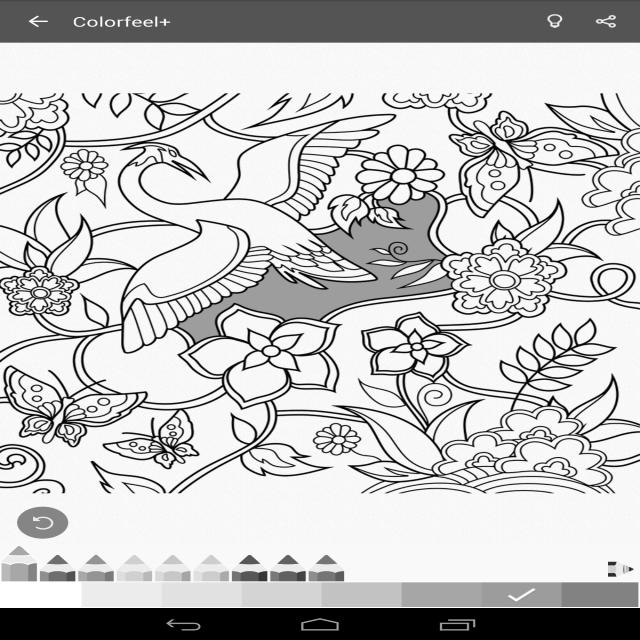ImageButton: (9, 3, 68, 40)
ImageView: (2, 582, 82, 607), (82, 582, 162, 607), (162, 582, 242, 607), (242, 582, 322, 607), (322, 582, 402, 607), (402, 582, 482, 607), (482, 582, 562, 607), (561, 582, 640, 606), (17, 506, 68, 538), (601, 557, 640, 581)
RadioButton: (0, 544, 38, 581), (38, 545, 77, 581), (115, 545, 154, 581), (230, 545, 269, 581), (307, 545, 346, 581), (77, 545, 115, 581), (154, 545, 192, 581), (192, 545, 230, 581), (269, 545, 307, 581)
TextView: (73, 12, 171, 30), (580, 5, 632, 38), (529, 5, 580, 38)
